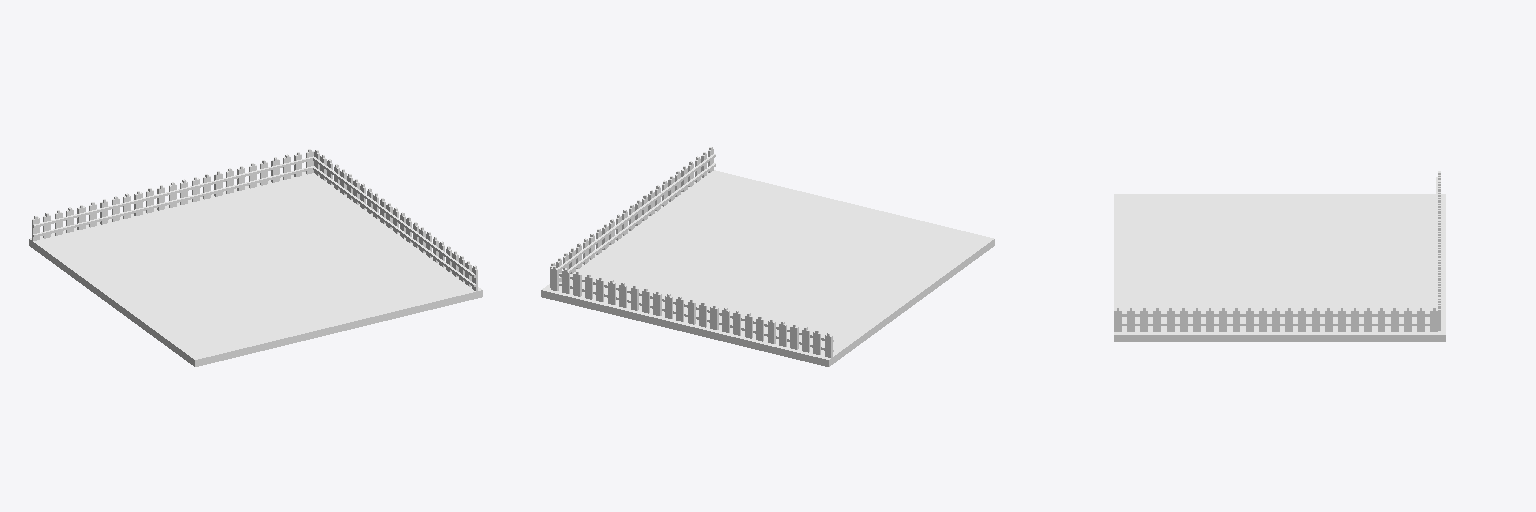
File: funland-2.obj
The picture shows the model from 3 angles: view 1: azimuth 30°, elevation 25°; view 2: azimuth 150°, elevation 25°; view 3: azimuth 270°, elevation 25°; orthographic projection.
Visible parts, largest first — view 1: object 1; view 2: object 1; view 3: object 1.
Boxes of the visible parts, box(x1,y1,x2,y2) form: object 1: box(29, 149, 482, 366); object 1: box(541, 147, 994, 366); object 1: box(1114, 171, 1445, 341).
Bounding box in the file's own units: 12.6 × 1.3 × 12.6.